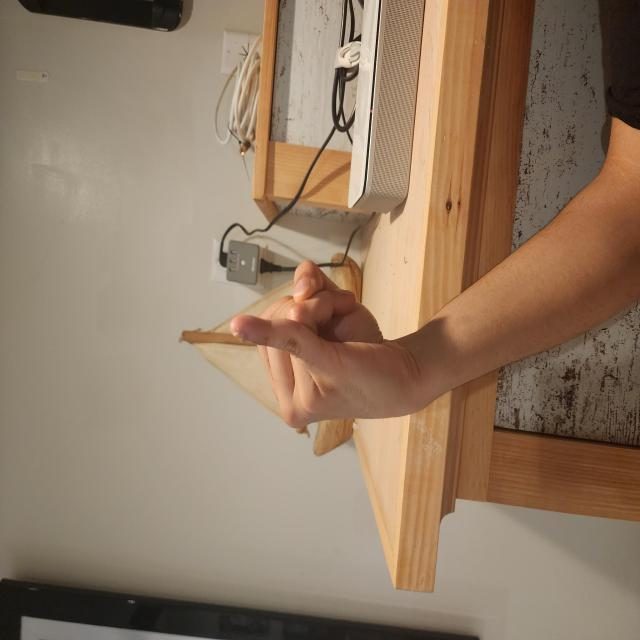I: (154, 301, 288, 572)
